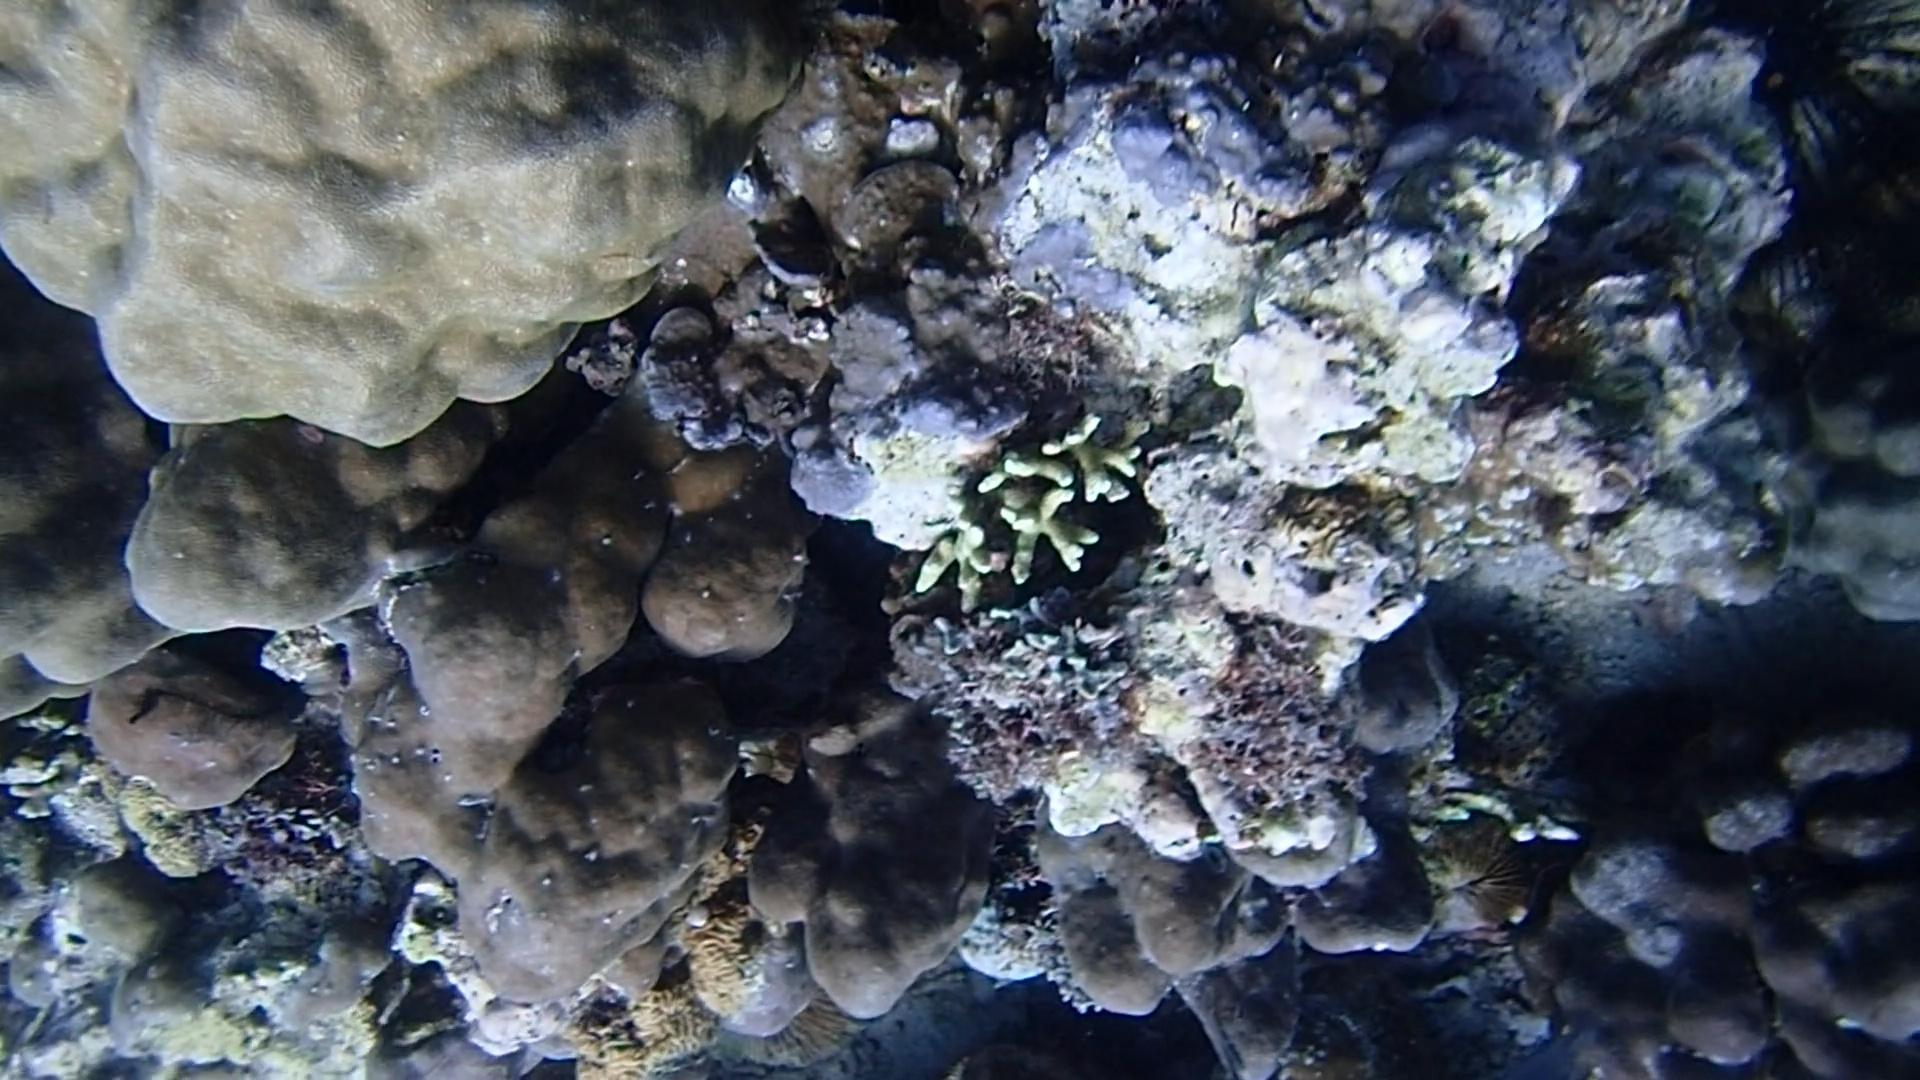Blue Fish Two: (1493, 1011, 1613, 1080)
